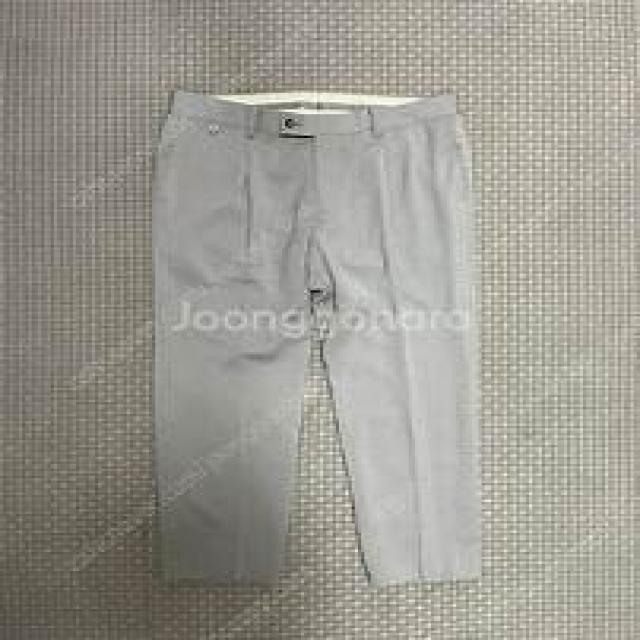long-pants: (150, 88, 484, 590)
